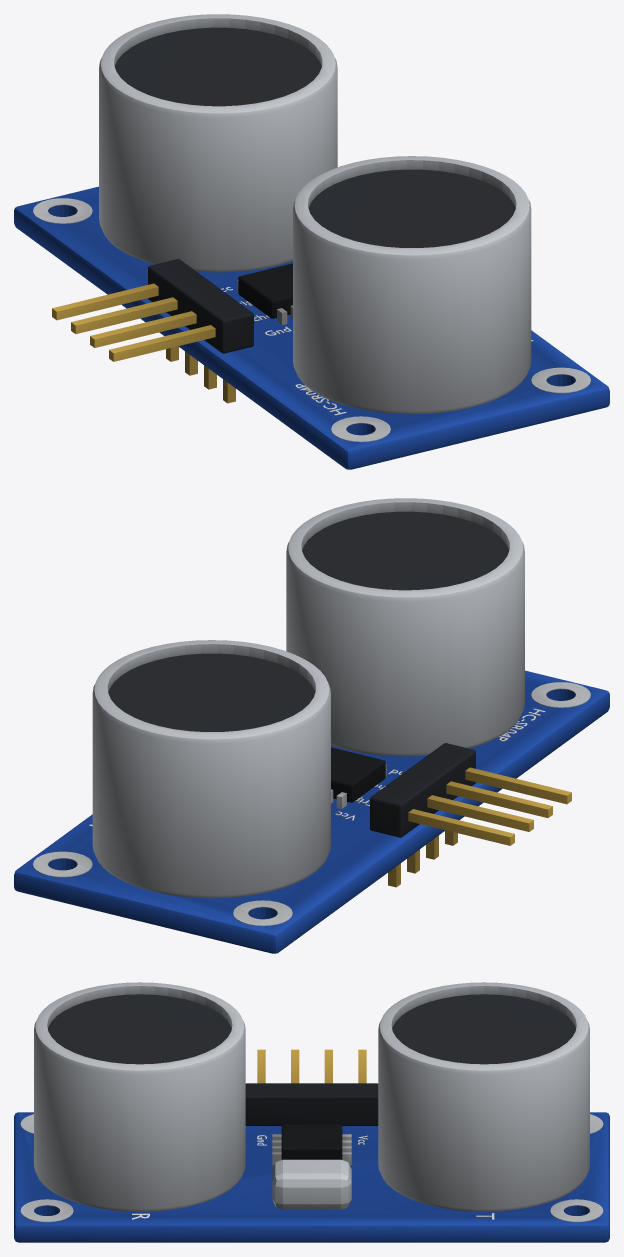
3 views of the same model, one above another, from view 1: azimuth 30°, elevation 25°; view 2: azimuth 150°, elevation 25°; view 3: azimuth 270°, elevation 25° (orthographic). The views are drawn at different scales.
Parts seen in each view (by area): view 1: Board; view 2: Board; view 3: Board.
Boxes of the visible parts, x1,y1,x2,y2 form: Board: (14,14,609,469); Board: (14,498,609,953); Board: (14,982,609,1242).
Bounding box in the file's own units: 0.028 × 0.0162 × 0.045.
